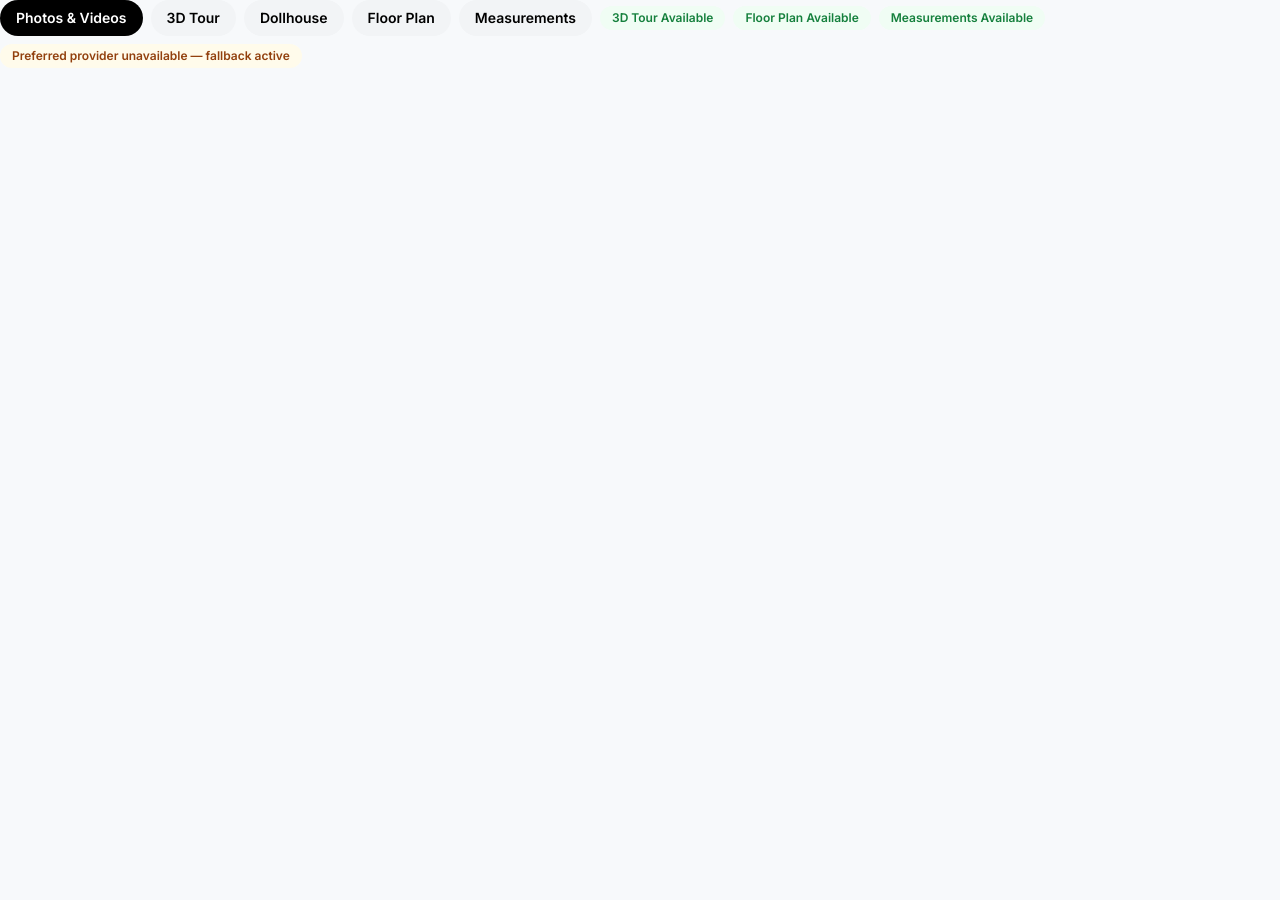
Scenario: VirtualTourExperience › shows temporary provider failure as a retry state
This screenshot has width=1280, height=900.
What coordinates should you click on to do the following:
click the button "3D Tour"
I would click on:
 (193, 18)
Its box is left=151, top=0, right=236, bottom=36.
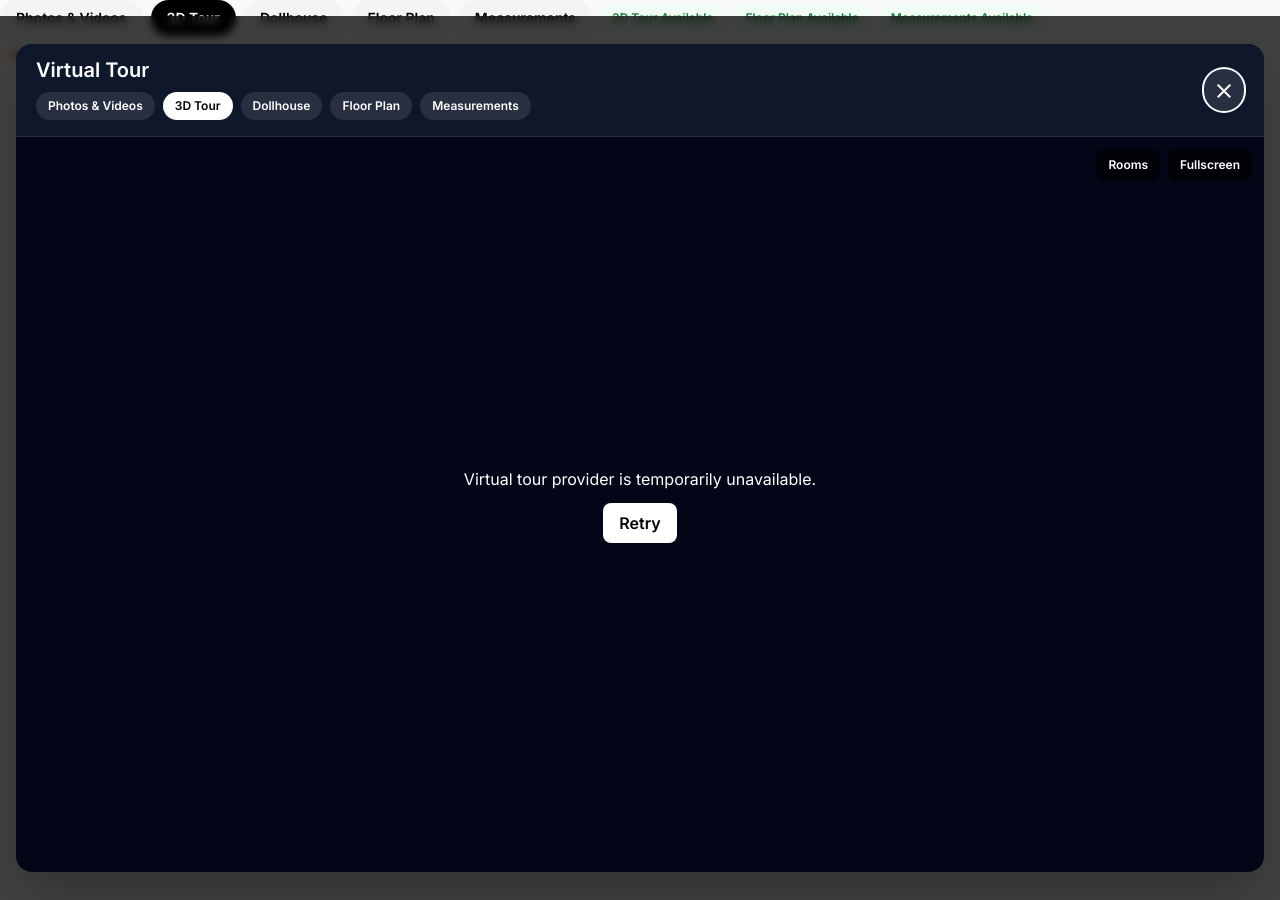
Now the text "Virtual tour provider is temporarily unavailable." is shown, box left=464, top=466, right=816, bottom=490
Now the button "Retry" is shown, box left=603, top=502, right=677, bottom=542
